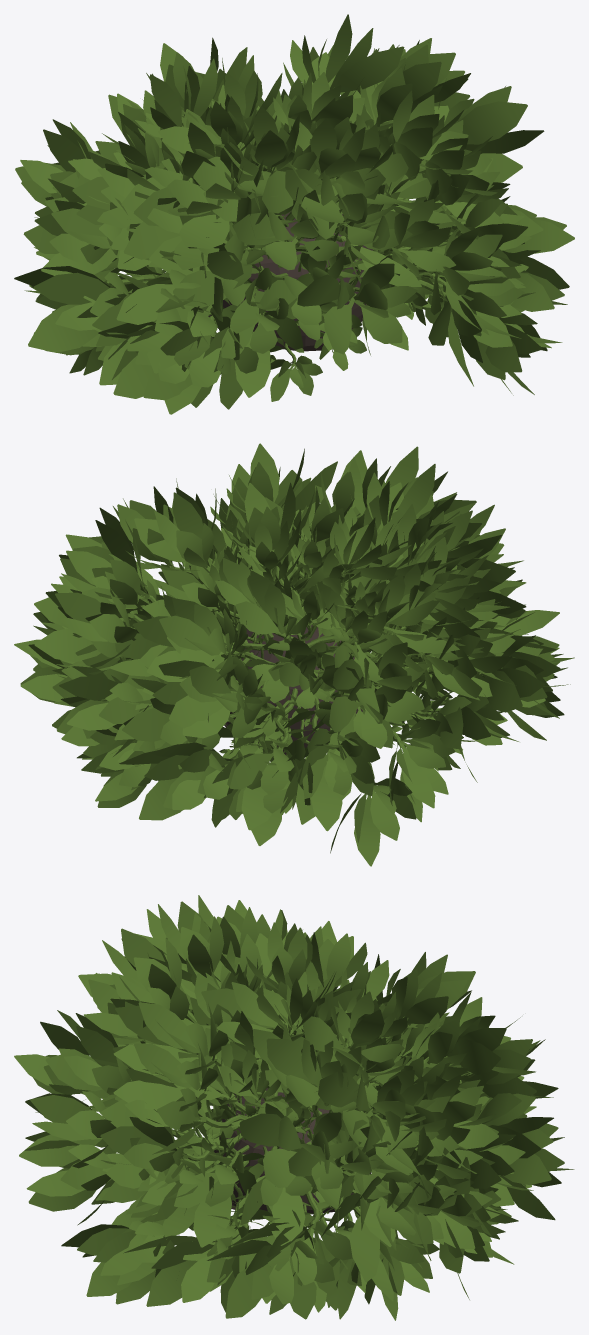
File: Arbusto4.fbx
3 renders of one model, top to bottom at view 1: azimuth 30°, elevation 25°; view 2: azimuth 150°, elevation 25°; view 3: azimuth 270°, elevation 25°, orthographic. The views are drawn at different scales.
Parts seen in each view (by area): view 1: B2.004|HO1.001|Dupli|3, B2.004|HO1.001|Dupli|80, B2.004|HO1.001|Dupli|120, B2.004|HO1.001|Dupli|235, B2.004|HO1.001|Dupli|121, B2.004|HO1.001|Dupli|71, B2.004|HO1.001|Dupli|68, B2.004|HO1.001|Dupli|158, B2.004|HO1.001|Dupli|161, B2.004|HO1.001|Dupli|135, B2.004|HO1.001|Dupli|74, B2.004|HO1.001|Dupli|127 (+55 smaller); view 2: B2.004|HO1.001|Dupli|31, B2.004|HO1.001|Dupli|44, B2.004|HO1.001|Dupli|18, B2.004|HO1.001|Dupli|24, B2.004|HO1.001|Dupli|25, B2.004|HO1.001|Dupli|63, B2.004|HO1.001|Dupli|235, B2.004|HO1.001|Dupli|29, B2.004|HO1.001|Dupli|20, B2.004|HO1.001|Dupli|208, B2.004|HO1.001|Dupli|3, B2.004|HO1.001|Dupli|52 (+66 smaller); view 3: B2.004|HO1.001|Dupli|135, B2.004|HO1.001|Dupli|131, B2.004|HO1.001|Dupli|132, B2.004|HO1.001|Dupli|48, B2.004|HO1.001|Dupli|158, B2.004|HO1.001|Dupli|249, B2.004|HO1.001|Dupli|231, B2.004|HO1.001|Dupli|129, B2.004|HO1.001|Dupli|52, B2.004|HO1.001|Dupli|161, B2.004|HO1.001|Dupli|120, B2.004|HO1.001|Dupli|243 (+66 smaller).
Boxes of the visible parts, x1,y1,x2,y2 form: B2.004|HO1.001|Dupli|3: [14, 258, 167, 359]; B2.004|HO1.001|Dupli|80: [297, 252, 417, 354]; B2.004|HO1.001|Dupli|120: [262, 118, 385, 223]; B2.004|HO1.001|Dupli|235: [290, 14, 404, 124]; B2.004|HO1.001|Dupli|121: [133, 142, 268, 248]; B2.004|HO1.001|Dupli|71: [126, 290, 271, 409]; B2.004|HO1.001|Dupli|68: [173, 237, 288, 333]; B2.004|HO1.001|Dupli|158: [354, 227, 514, 334]; B2.004|HO1.001|Dupli|161: [402, 264, 524, 386]; B2.004|HO1.001|Dupli|135: [434, 81, 544, 153]; B2.004|HO1.001|Dupli|74: [203, 266, 303, 397]; B2.004|HO1.001|Dupli|127: [96, 250, 223, 373]; B2.004|HO1.001|Dupli|31: [204, 688, 313, 830]; B2.004|HO1.001|Dupli|44: [34, 589, 148, 667]; B2.004|HO1.001|Dupli|18: [132, 608, 275, 681]; B2.004|HO1.001|Dupli|24: [158, 654, 275, 737]; B2.004|HO1.001|Dupli|25: [119, 705, 279, 827]; B2.004|HO1.001|Dupli|63: [52, 666, 235, 756]; B2.004|HO1.001|Dupli|235: [134, 487, 273, 637]; B2.004|HO1.001|Dupli|29: [279, 696, 374, 831]; B2.004|HO1.001|Dupli|20: [320, 642, 429, 722]; B2.004|HO1.001|Dupli|208: [330, 778, 416, 866]; B2.004|HO1.001|Dupli|3: [415, 635, 570, 740]; B2.004|HO1.001|Dupli|52: [66, 506, 198, 605]; B2.004|HO1.001|Dupli|135: [239, 1103, 361, 1189]; B2.004|HO1.001|Dupli|131: [123, 1197, 272, 1312]; B2.004|HO1.001|Dupli|132: [207, 1209, 334, 1319]; B2.004|HO1.001|Dupli|48: [311, 1159, 440, 1282]; B2.004|HO1.001|Dupli|158: [19, 1091, 219, 1168]; B2.004|HO1.001|Dupli|249: [154, 1133, 257, 1247]; B2.004|HO1.001|Dupli|231: [113, 1002, 272, 1095]; B2.004|HO1.001|Dupli|129: [229, 1187, 352, 1299]; B2.004|HO1.001|Dupli|52: [316, 1070, 435, 1148]; B2.004|HO1.001|Dupli|161: [24, 1131, 234, 1225]; B2.004|HO1.001|Dupli|120: [78, 928, 269, 1088]; B2.004|HO1.001|Dupli|243: [113, 1043, 256, 1116].
Bounding box in the file's own units: 475 × 277 × 446.
